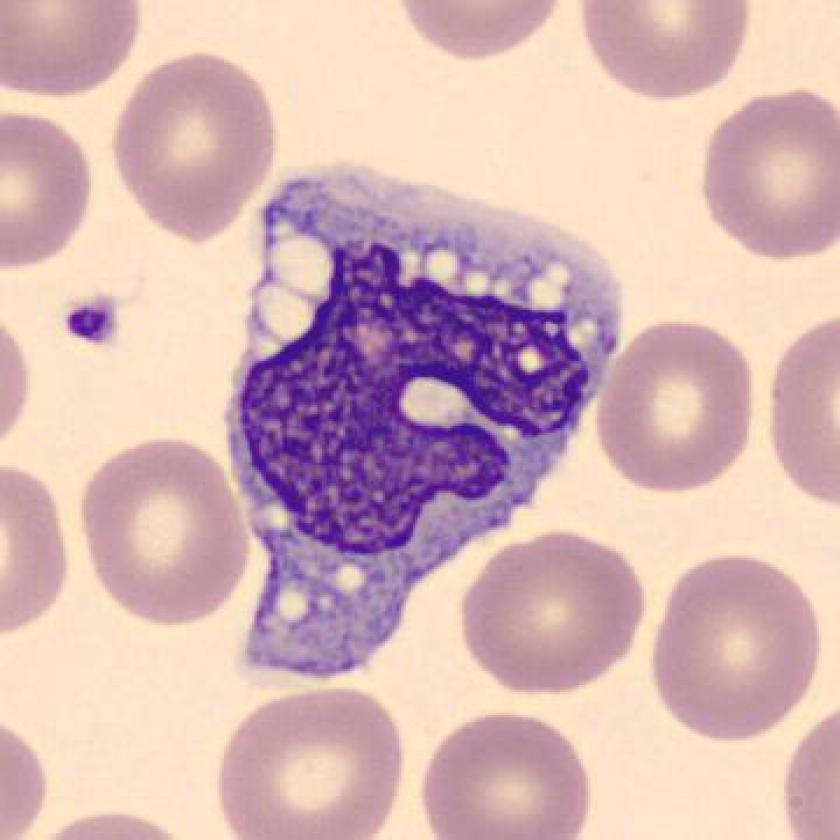monocyte: (206, 140, 638, 709)
